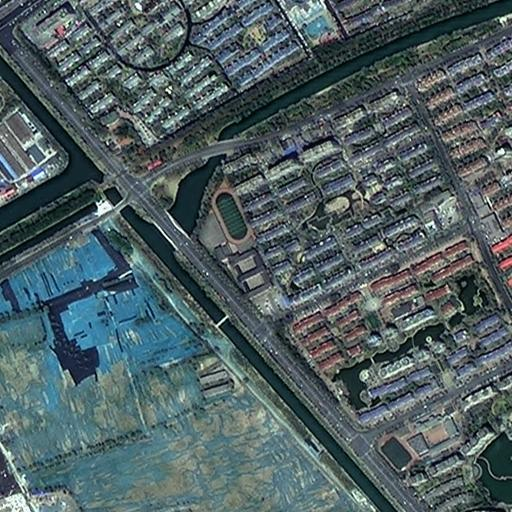school: (196, 187, 274, 301), (371, 414, 461, 474)
